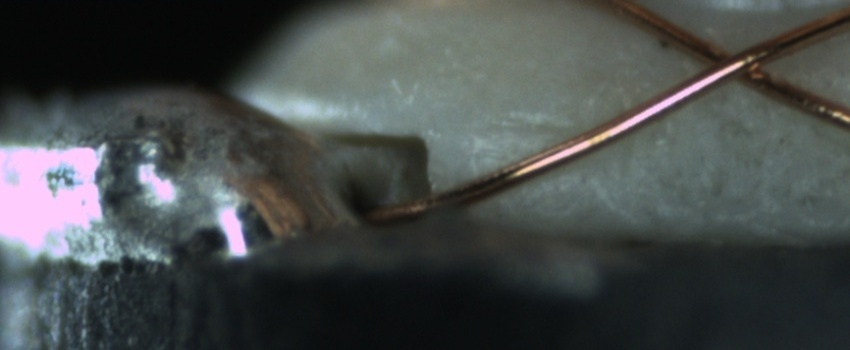CL: (682, 31, 784, 93)
DL: (458, 99, 586, 163)
